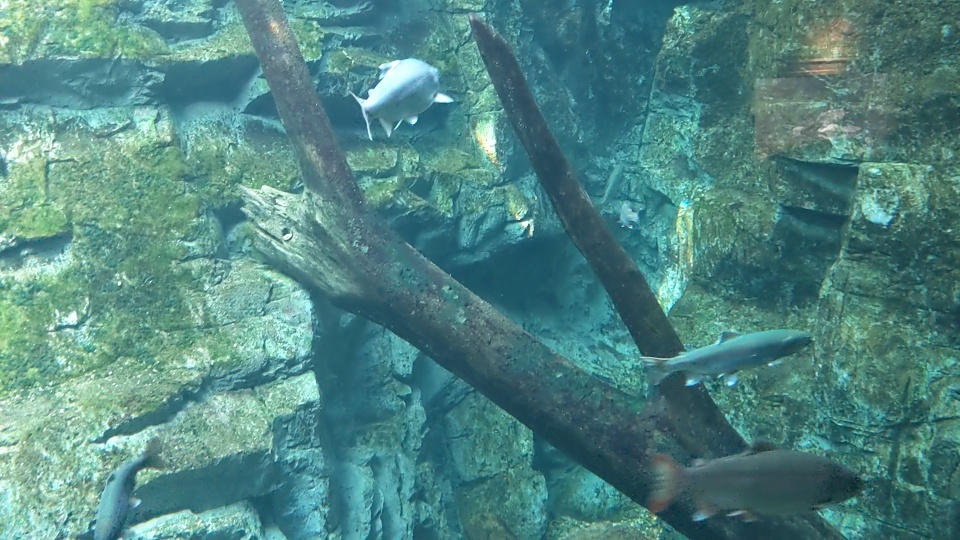Fish: (648, 442, 864, 516), (630, 318, 816, 397), (356, 57, 450, 141), (95, 429, 161, 540), (593, 159, 623, 214), (614, 206, 639, 230)
